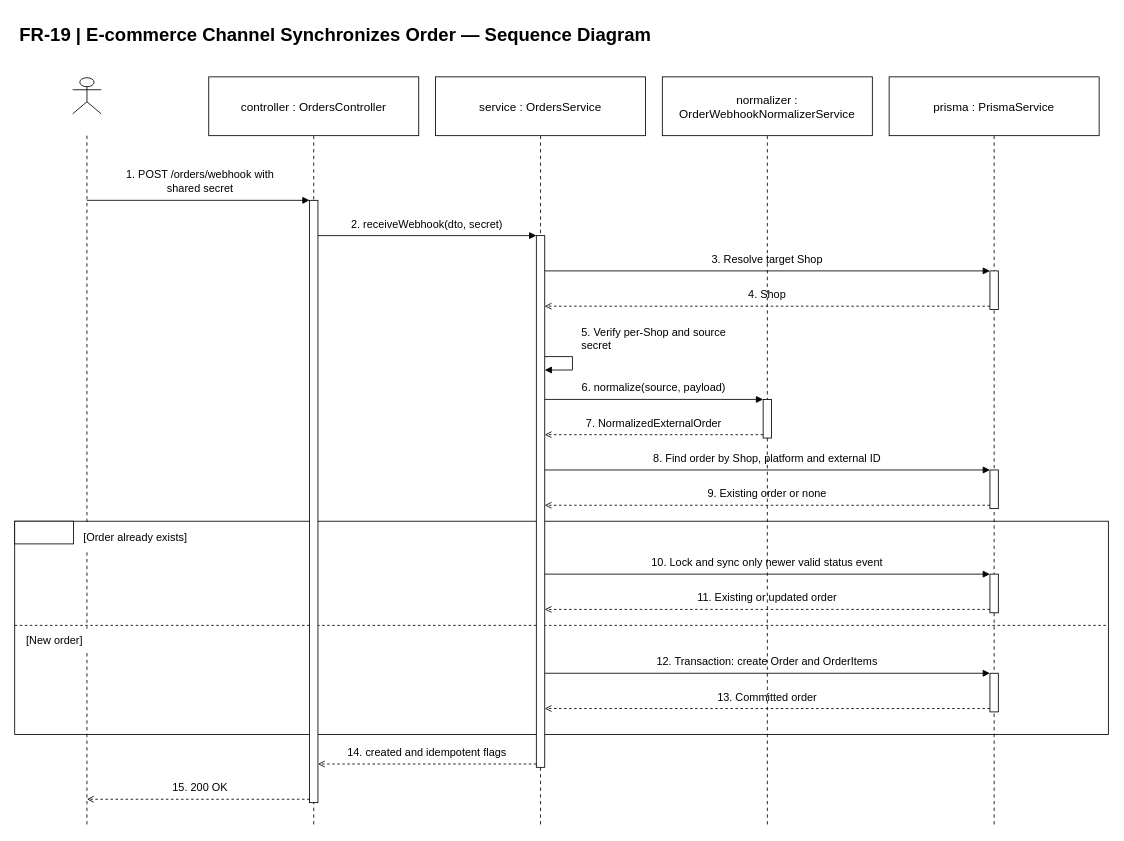
The diagram is 1124 pixels wide and 841 high, and some of its shapes have lost their labels. Each missing label, with the box of its shape:
alt: (14, 520, 74, 544)
E-commerce Channel: (72, 77, 101, 114)
